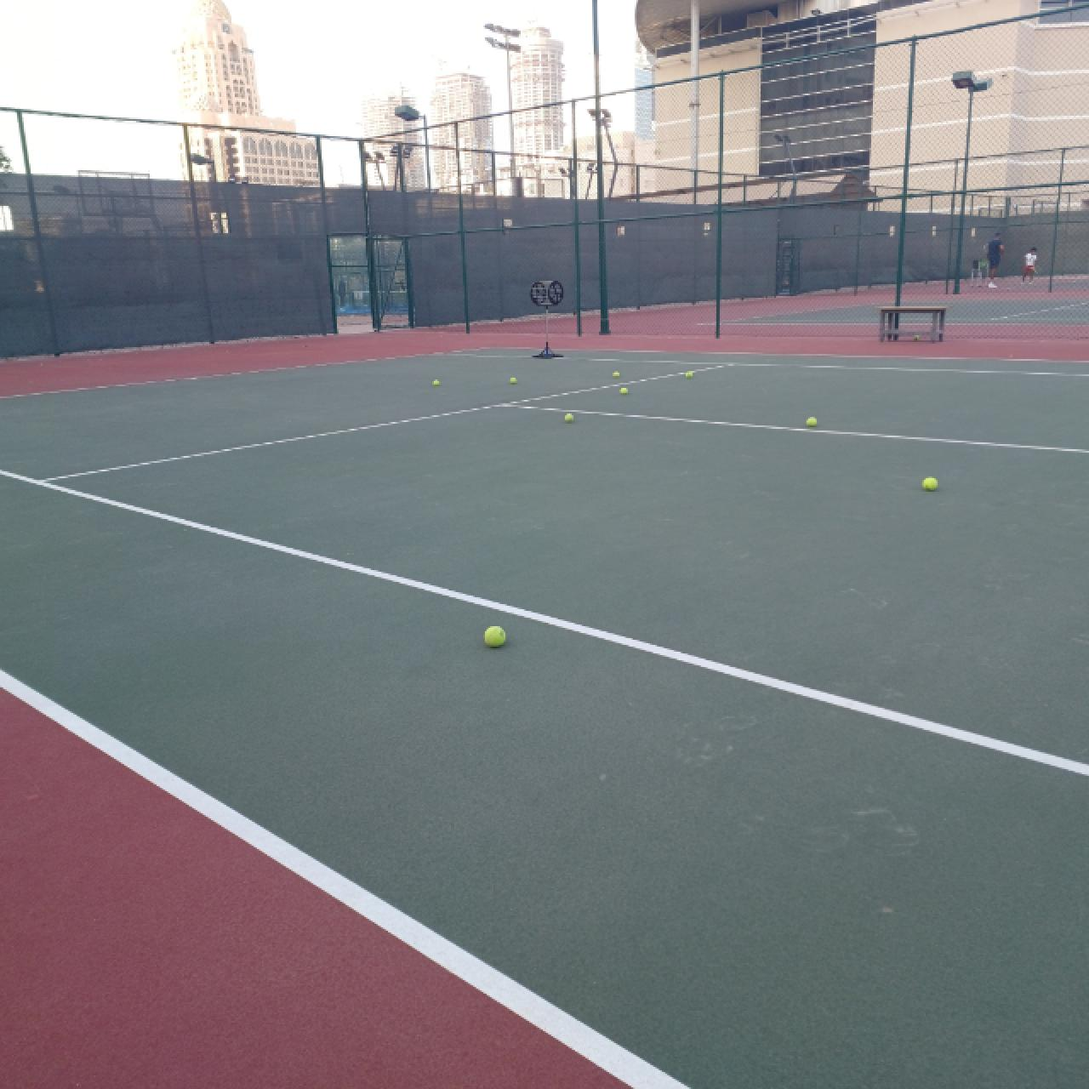tennis-ball: (483, 625, 508, 650), (921, 476, 941, 492), (563, 412, 576, 425), (805, 415, 819, 427), (617, 386, 630, 395), (508, 376, 519, 386), (431, 378, 442, 387), (611, 370, 622, 379), (684, 371, 694, 379), (913, 335, 919, 342)
